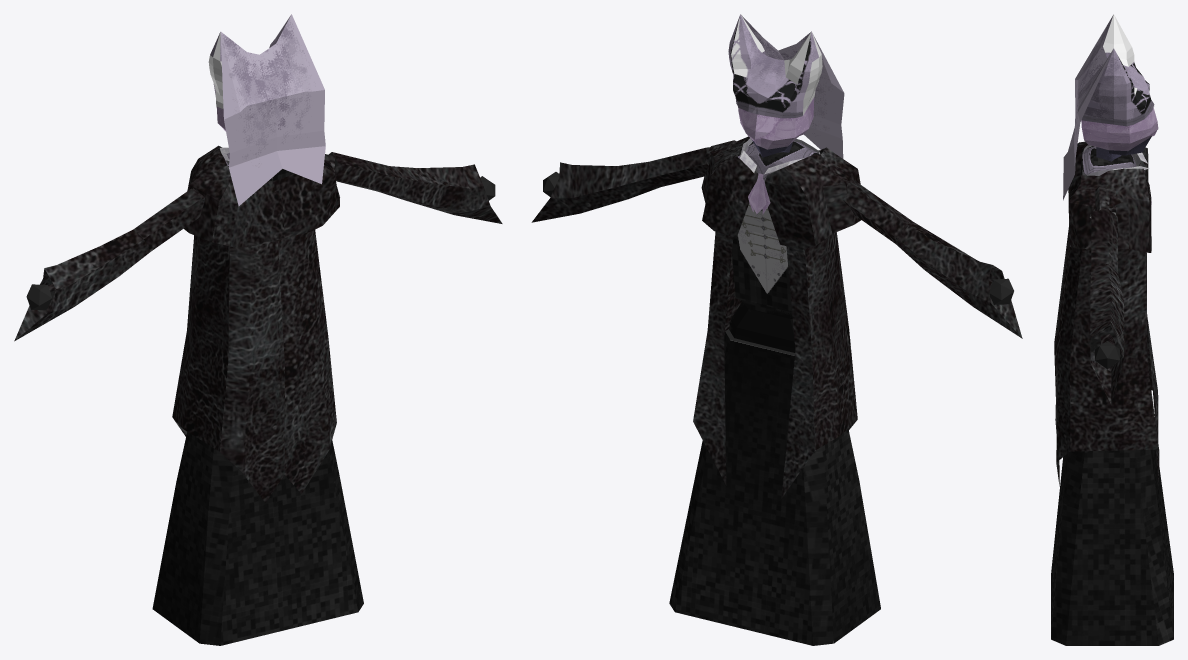
File: Textured_Rowan.fbx
3 views of the same model, side by side, from view 1: azimuth 30°, elevation 25°; view 2: azimuth 150°, elevation 25°; view 3: azimuth 270°, elevation 25° (orthographic).
Visible parts, largest first — view 1: Cape, Skirt, Plane, Arms, Tunic, Hat; view 2: Skirt, Cape, Arms, Tunic, Hat, Torso, Plane, Waist, Face_Wrap, Chest; view 3: Skirt, Cape, Tunic, Arms, Hat, Plane, Face_Wrap, Chest, Right_Shoulder, Shirt_Collar, Head.
Boxes of the visible parts, bbox=[...] form: Cape: bbox=[172, 230, 336, 502]; Skirt: bbox=[152, 432, 363, 645]; Plane: bbox=[220, 14, 325, 206]; Arms: bbox=[14, 152, 502, 341]; Tunic: bbox=[184, 145, 339, 247]; Hat: bbox=[208, 15, 290, 109]; Skirt: bbox=[669, 329, 880, 645]; Cape: bbox=[693, 231, 857, 498]; Arms: bbox=[531, 147, 1022, 338]; Tunic: bbox=[701, 136, 860, 249]; Hat: bbox=[728, 14, 822, 118]; Torso: bbox=[732, 228, 791, 312]; Plane: bbox=[741, 15, 844, 158]; Waist: bbox=[729, 300, 795, 352]; Face_Wrap: bbox=[738, 97, 814, 149]; Chest: bbox=[737, 141, 818, 237]; Skirt: bbox=[1051, 449, 1173, 645]; Cape: bbox=[1054, 225, 1159, 486]; Tunic: bbox=[1068, 141, 1151, 252]; Arms: bbox=[1090, 208, 1123, 405]; Hat: bbox=[1082, 14, 1154, 126]; Plane: bbox=[1063, 15, 1113, 200]; Face_Wrap: bbox=[1081, 108, 1158, 151]; Chest: bbox=[1080, 146, 1139, 175]; Right_Shoulder: bbox=[1089, 186, 1115, 218]; Shirt_Collar: bbox=[1082, 145, 1149, 175]; Head: bbox=[1098, 136, 1151, 155].
Bounding box in the file's own units: 1.82 × 2.07 × 0.4011.
Materials: 18 (18 with a texture image).
